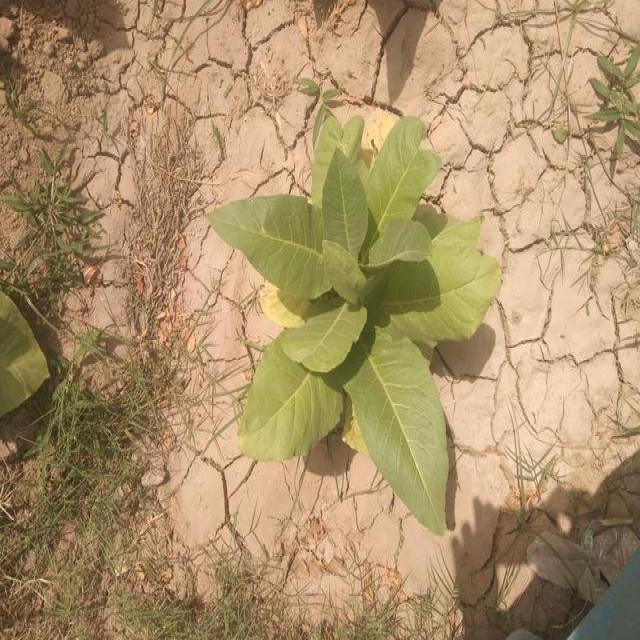crop: (230, 116, 502, 496)
